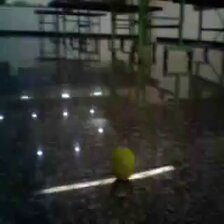tennis: (109, 148, 136, 182)
